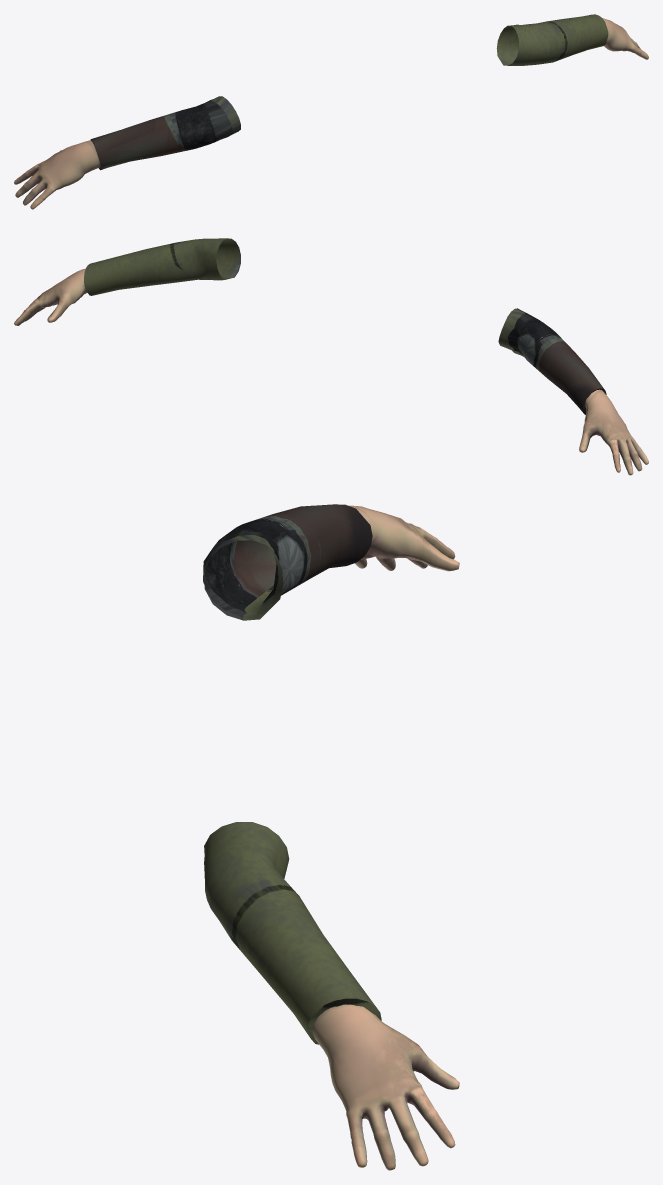
Rendered from mc_ONLYhands.fbx.
3 renders of one model, top to bottom at view 1: azimuth 30°, elevation 25°; view 2: azimuth 150°, elevation 25°; view 3: azimuth 270°, elevation 25°, orthographic. The views are drawn at different scales.
Parts seen in each view (by area): view 1: hands; view 2: hands; view 3: hands.
Boxes of the visible parts, x1,y1,x2,y2 form: hands: (14, 14, 648, 209); hands: (14, 238, 648, 475); hands: (203, 504, 459, 1170).
Bounding box in the file's own units: 26.95 × 150 × 21.94.
